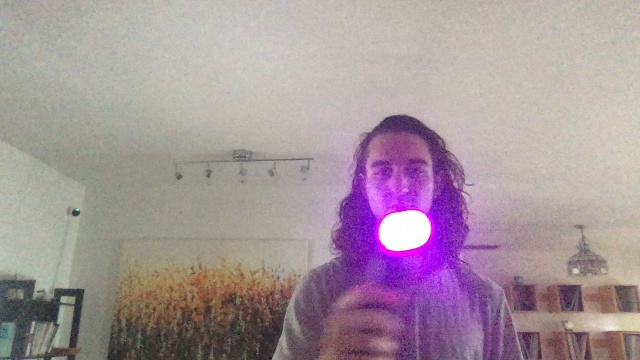wand: (379, 210, 432, 252)
